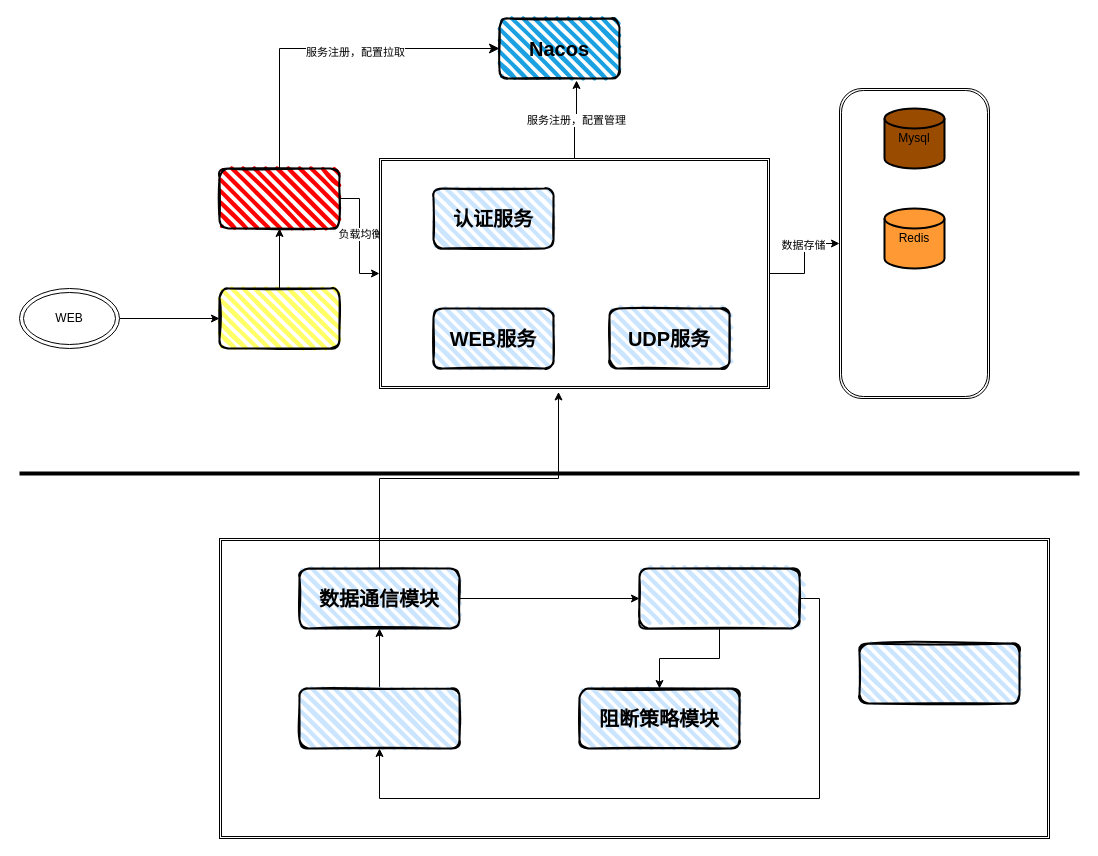
This 1098x856 diagram has some shape labels left out. Each missing label, with the centre of its shape:
"GateWay" goes at (x=279, y=198).
"Nginx" goes at (x=279, y=318).
"数据采集模块" goes at (x=379, y=718).
"策略管理模块" goes at (x=719, y=598).
"进程防护模块" goes at (x=939, y=673).
